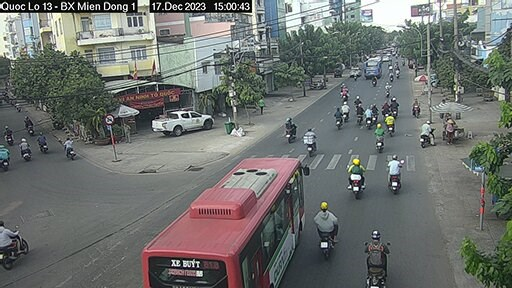bus: (140, 135, 305, 287), (148, 105, 228, 138)
motorbike: (313, 199, 342, 250), (296, 123, 329, 158), (362, 230, 386, 277), (347, 154, 370, 192), (277, 113, 305, 142), (386, 154, 404, 189)
